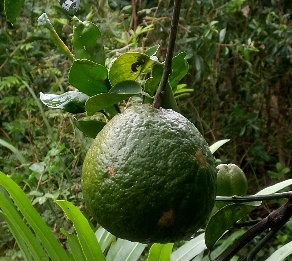Cam: (75, 102, 220, 245)
